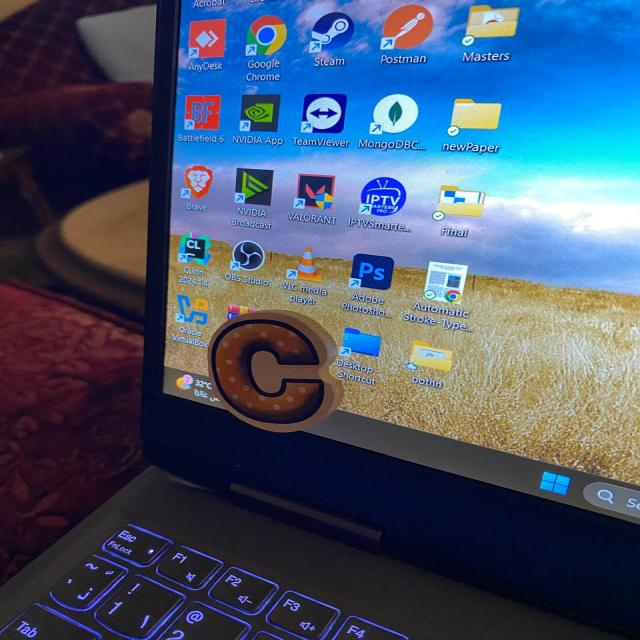C: (209, 311, 341, 432)
